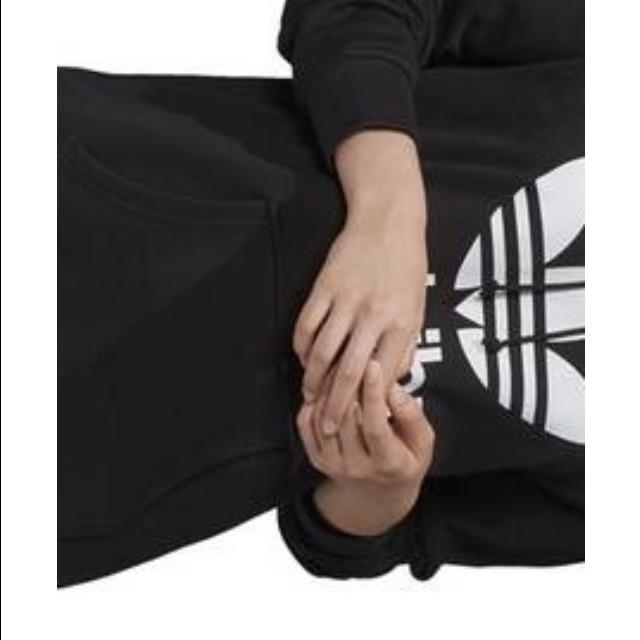cotton: (56, 0, 584, 590)
